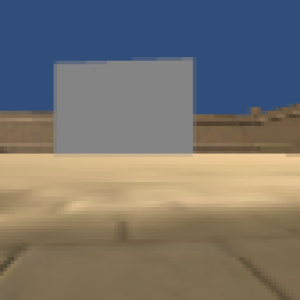wall: (51, 58, 194, 156)
